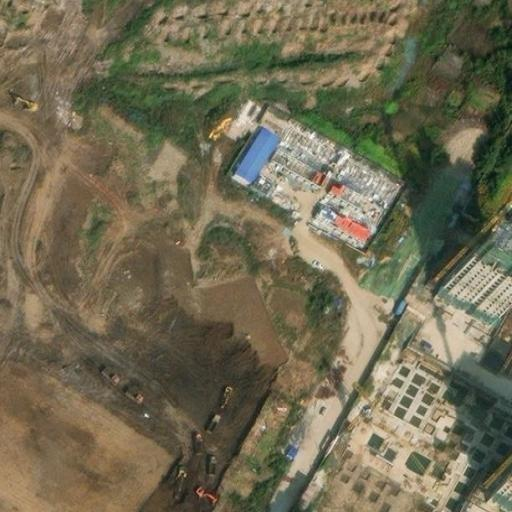building: (374, 356, 450, 434), (438, 243, 512, 311), (307, 197, 376, 251), (264, 140, 332, 194), (231, 117, 280, 177), (489, 470, 512, 505)
